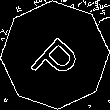P_NE: (24, 24, 86, 86)
